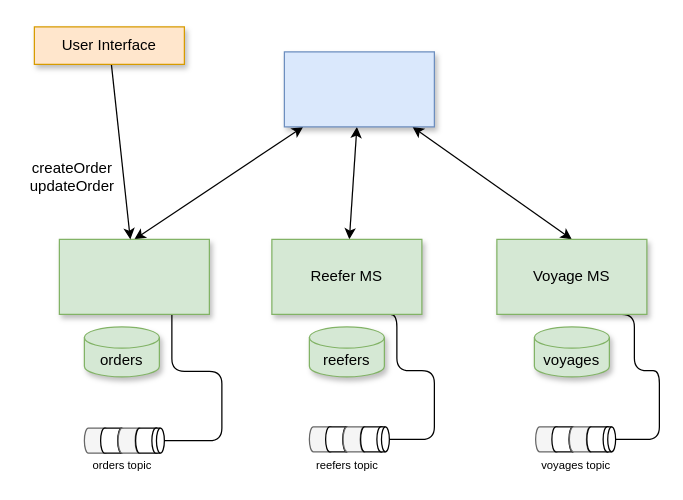
This 683x500 diagram has some shape labels left out. The centre of each missing label's shape, as x and y in pixels:
"LRA Coordinator" belongs at point 360,91.
"Order MS" belongs at point 135,278.
